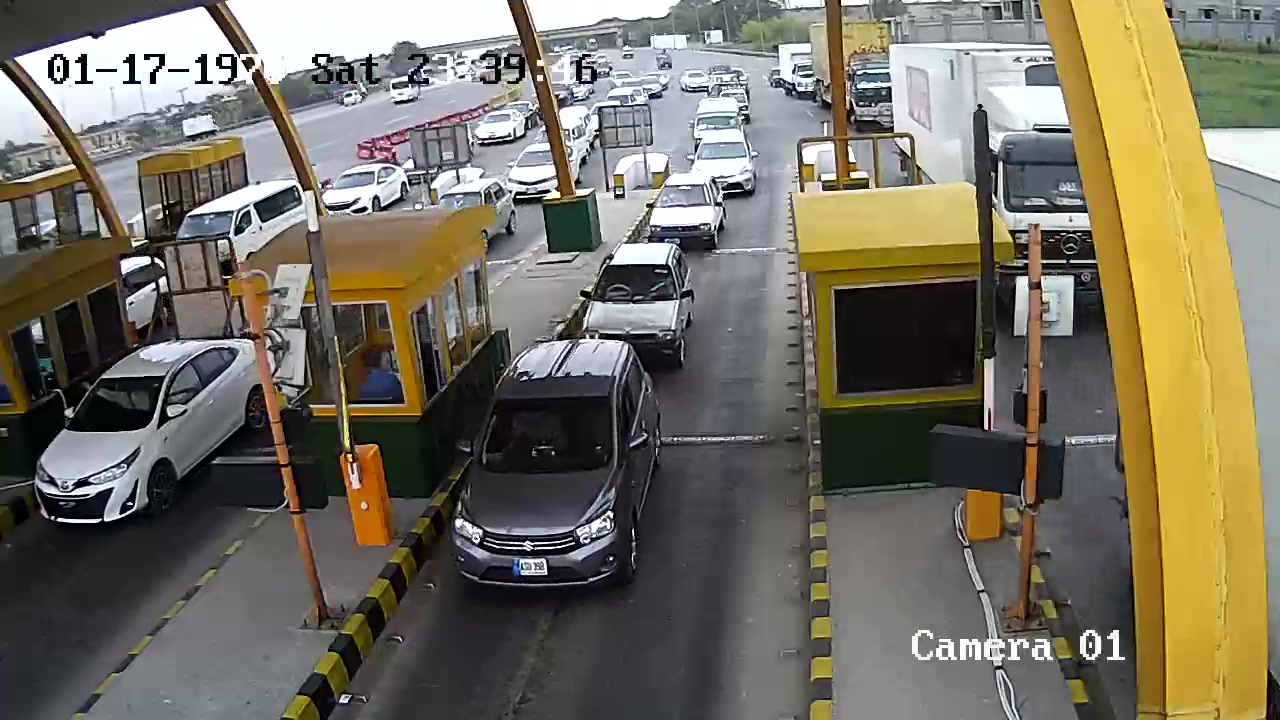F1: (459, 338, 661, 596), (584, 244, 698, 357)
